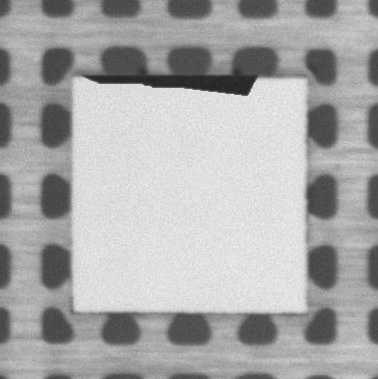DIE_BROKEN: (88, 69, 259, 98)
